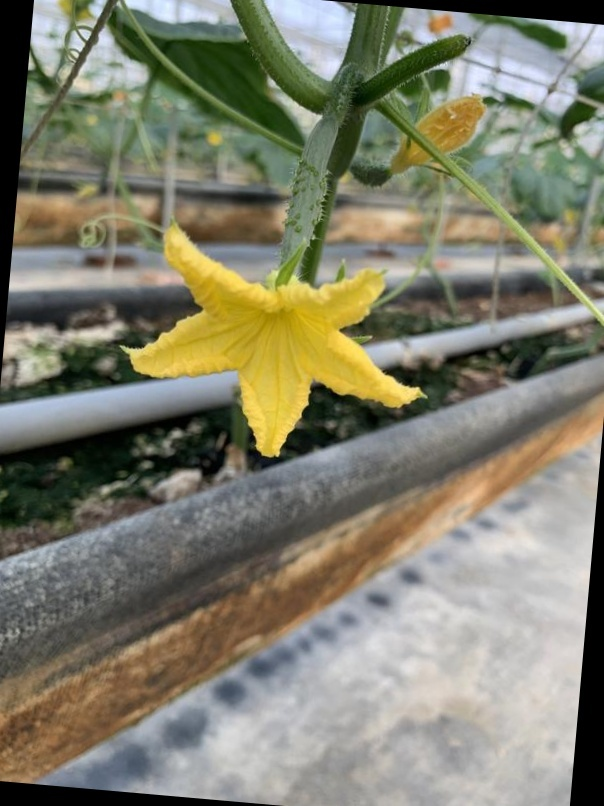flowering: (118, 95, 444, 461)
mature: (120, 93, 448, 463)
